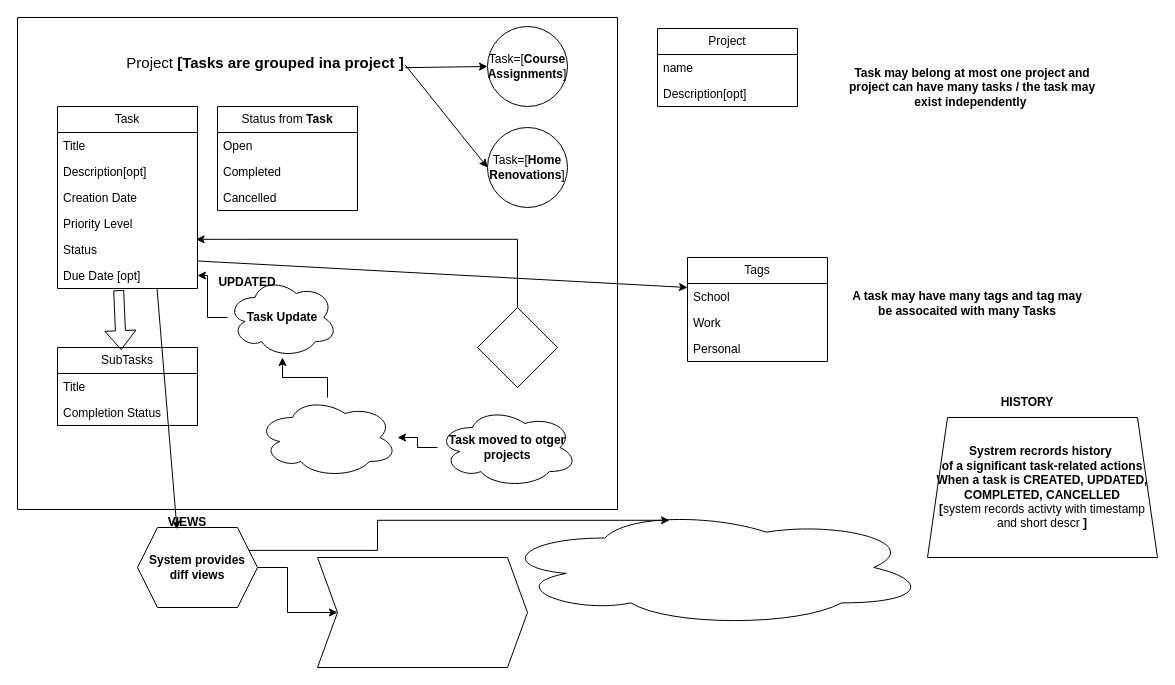
This 1175x685 diagram has some shape labels left out. Here are the shapes that lost their labels. From the top down, the centre of each, then its label:
At point 517,347: "Search by: - title - Descr".
At point 327,437: "Task removed from projects".
At point 712,567: "View by due on a specific date or within a given time range".
At point 422,612: "List/View Task: - by Due Date - by Priority - by Status - by project - by Tag".
